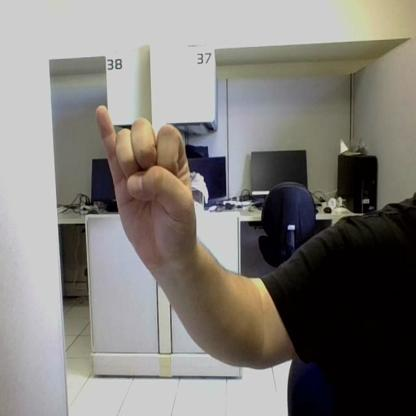I: (97, 105, 197, 262)
